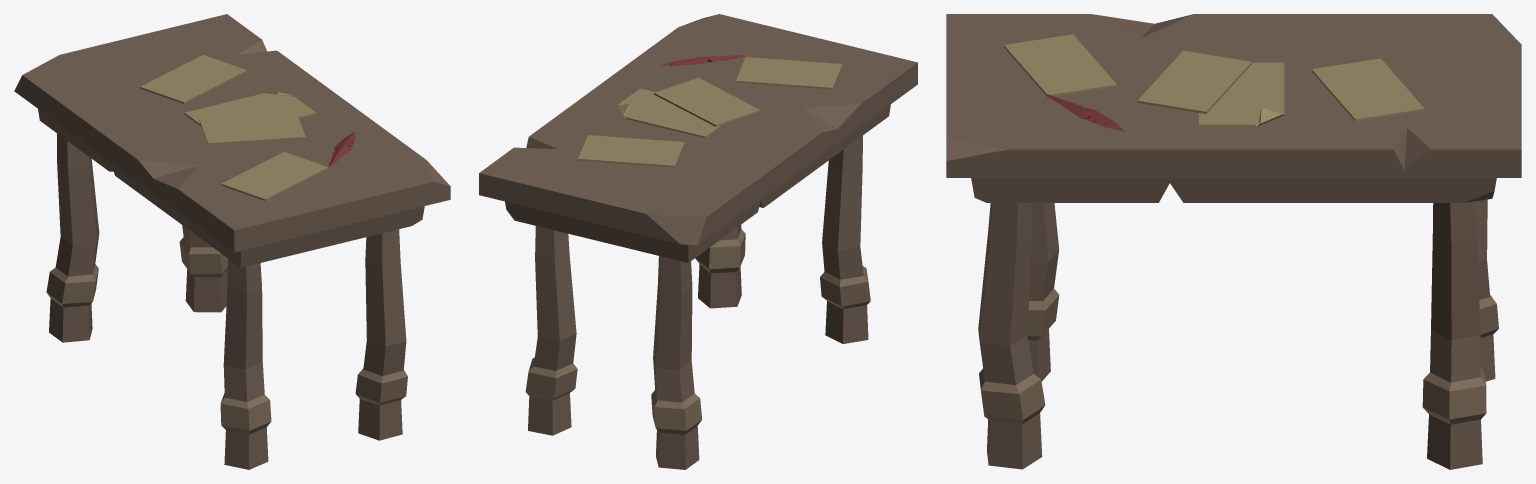
The model's file is NavigatorTable.fbx.
3 views of the same model, side by side, from view 1: azimuth 30°, elevation 25°; view 2: azimuth 150°, elevation 25°; view 3: azimuth 270°, elevation 25° (orthographic). The views are drawn at different scales.
Parts seen in each view (by area): view 1: NavigatorTable; view 2: NavigatorTable; view 3: NavigatorTable.
Boxes of the visible parts, x1,y1,x2,y2 form: NavigatorTable: (14,14,450,469); NavigatorTable: (479,14,917,469); NavigatorTable: (946,14,1521,469).
Size of the model in its own units: 0.7782 by 1.39 by 0.9249.
